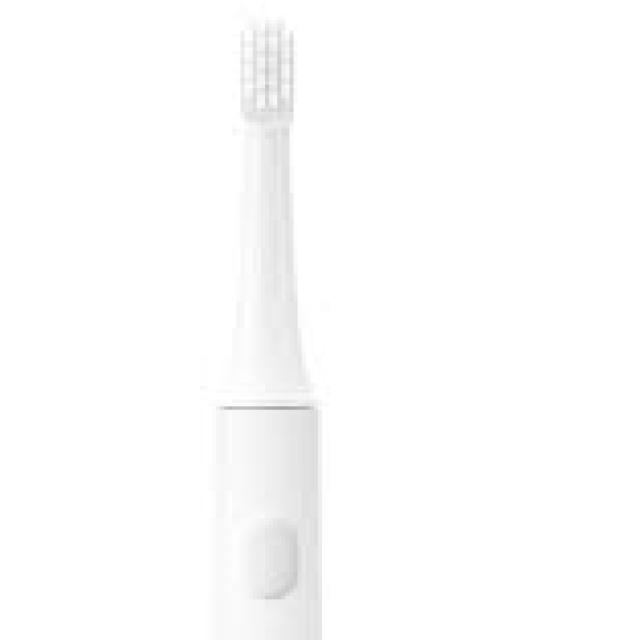organic: (185, 12, 368, 620)
